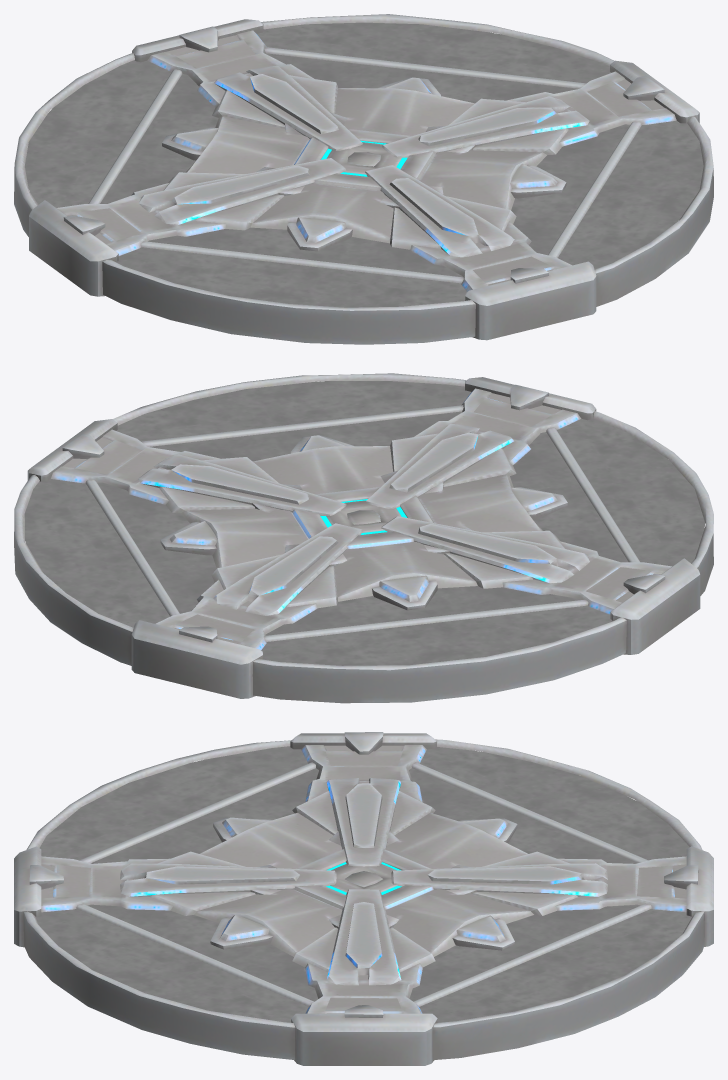
The model's file is TekTeleporterSmall_C.glb.
3 renders of one model, top to bottom at view 1: azimuth 30°, elevation 25°; view 2: azimuth 150°, elevation 25°; view 3: azimuth 270°, elevation 25°, orthographic.
Visible parts, largest first — view 1: SM_Teleporter_Mini; view 2: SM_Teleporter_Mini; view 3: SM_Teleporter_Mini.
Boxes of the visible parts, left/top/right/bottom form: SM_Teleporter_Mini: left=14, top=14, right=713, bottom=344; SM_Teleporter_Mini: left=14, top=373, right=713, bottom=703; SM_Teleporter_Mini: left=14, top=732, right=713, bottom=1065.
Size of the model in its own units: 2.71 by 0.1953 by 2.71.
1 material, 1 textured.
